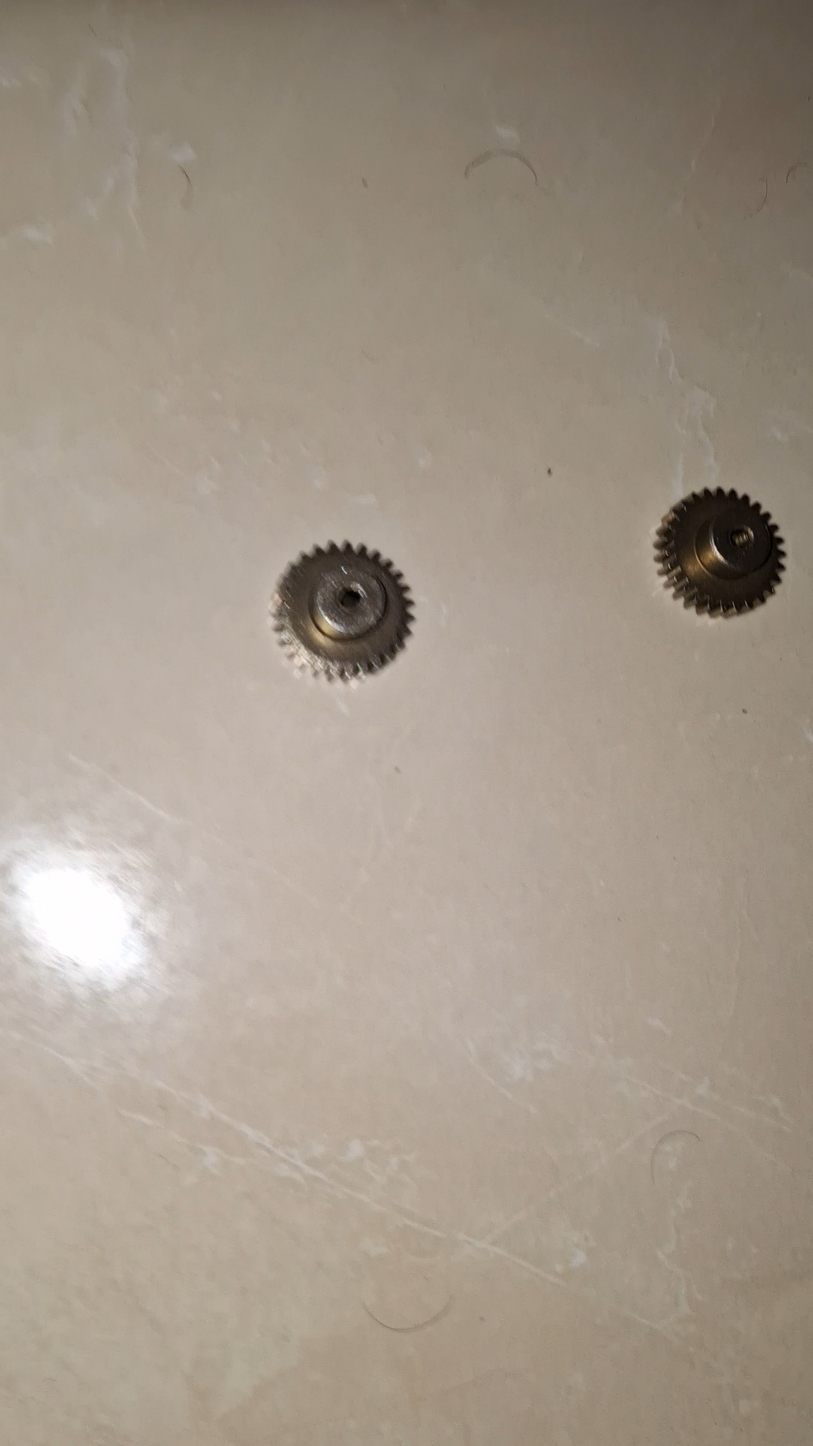spur gear: (272, 542, 412, 679), (656, 488, 785, 614)
